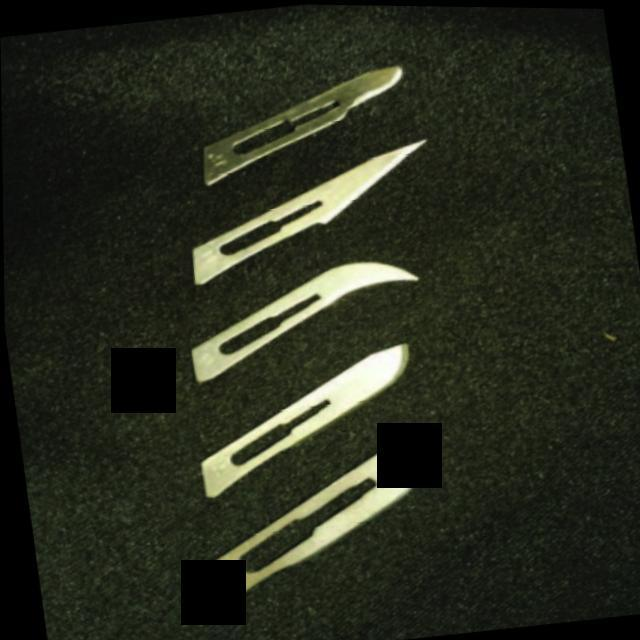Surgical blade: (172, 426, 460, 632), (169, 124, 451, 292), (176, 326, 434, 504), (172, 235, 434, 388), (182, 44, 427, 196)
